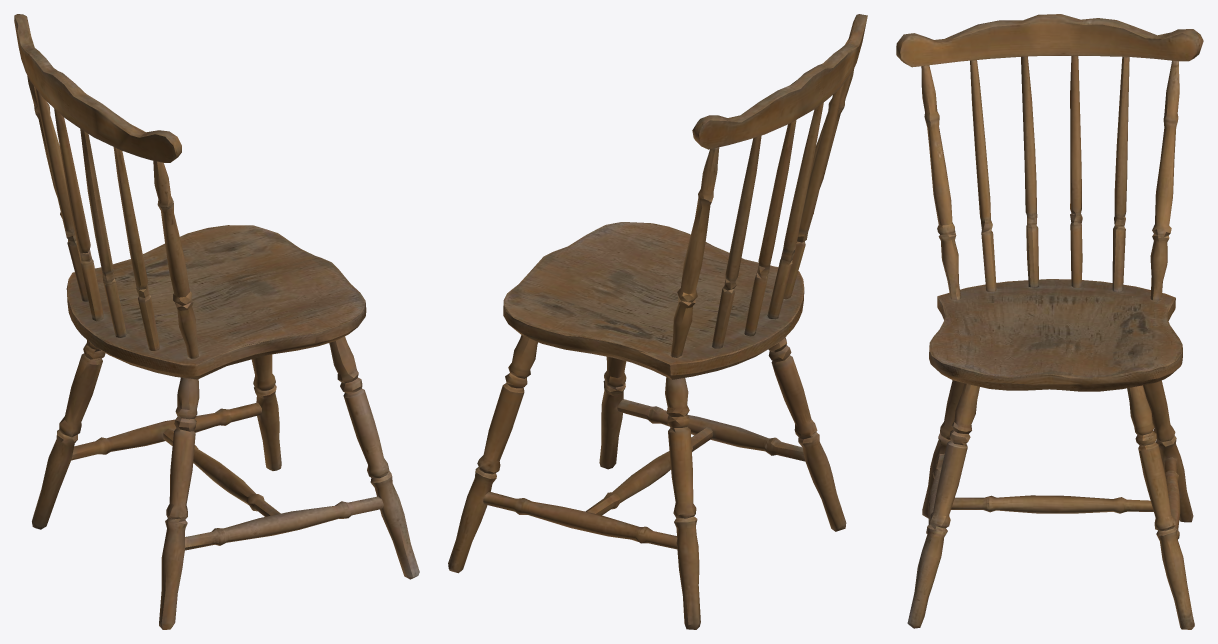
File: chair-wooden-b.glb
3 renders of one model, left to right at view 1: azimuth 30°, elevation 25°; view 2: azimuth 150°, elevation 25°; view 3: azimuth 270°, elevation 25°, orthographic. The views are drawn at different scales.
Parts seen in each view (by area): view 1: chair-wooden-b; view 2: chair-wooden-b; view 3: chair-wooden-b.
Part boxes in pixels (box(x1,y1,x2,y2)): chair-wooden-b: box(14, 14, 419, 629); chair-wooden-b: box(448, 14, 867, 629); chair-wooden-b: box(896, 14, 1203, 629).
Size of the model in its own units: 0.5204 by 0.8676 by 0.4985.
1 material, 1 textured.
